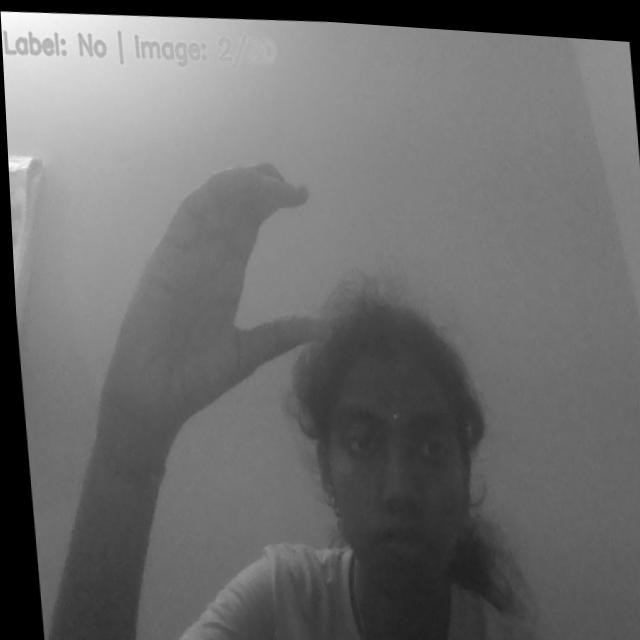No: (82, 141, 341, 422)
